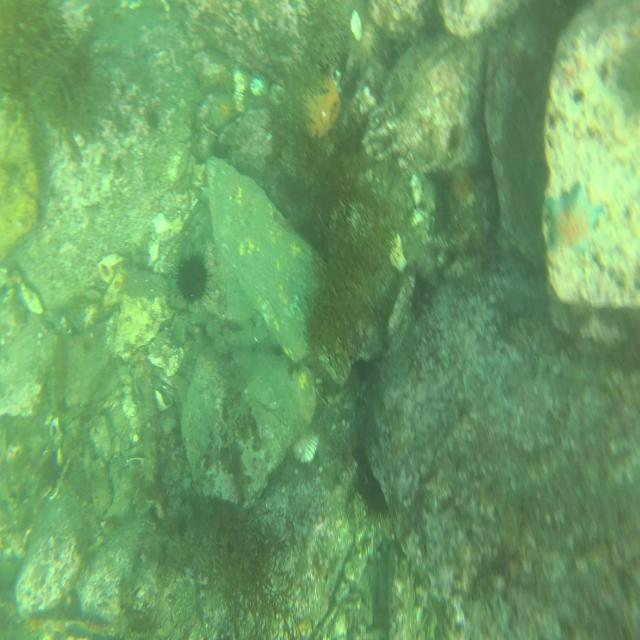echinus: (175, 256, 209, 306), (357, 473, 389, 523)
starfish: (547, 185, 600, 259)
